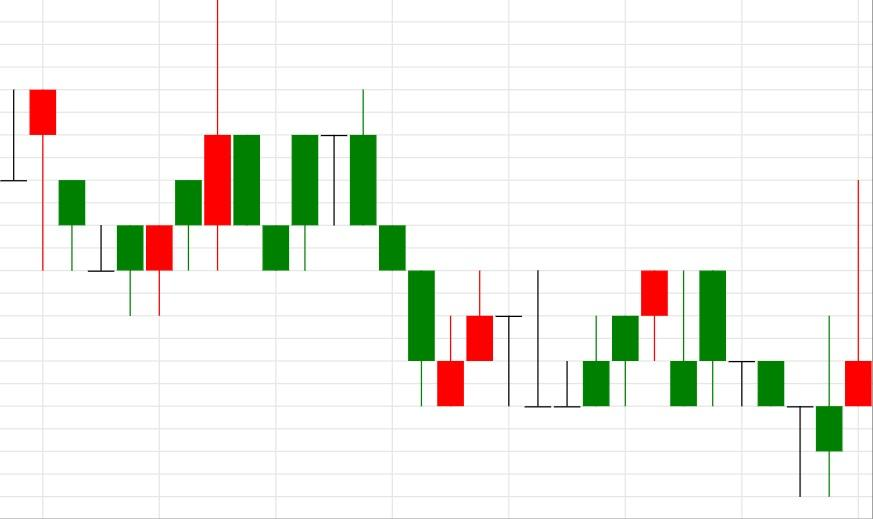three_black_crows_fall: (261, 89, 436, 407)
